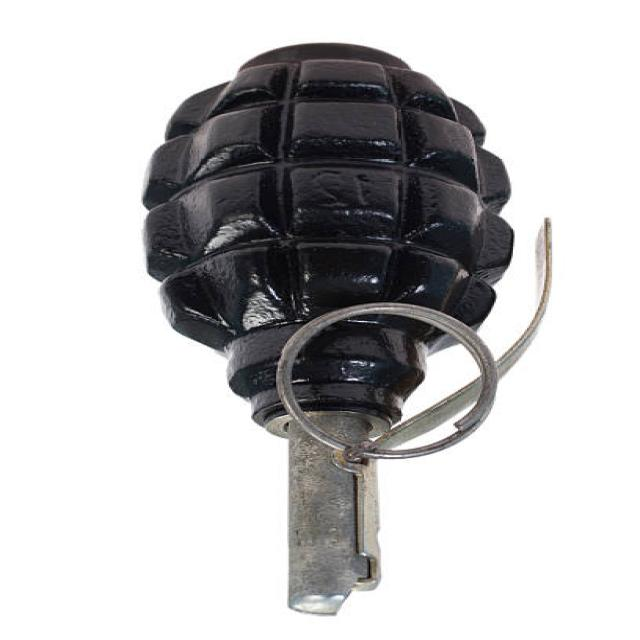grenade: (147, 40, 557, 623)
